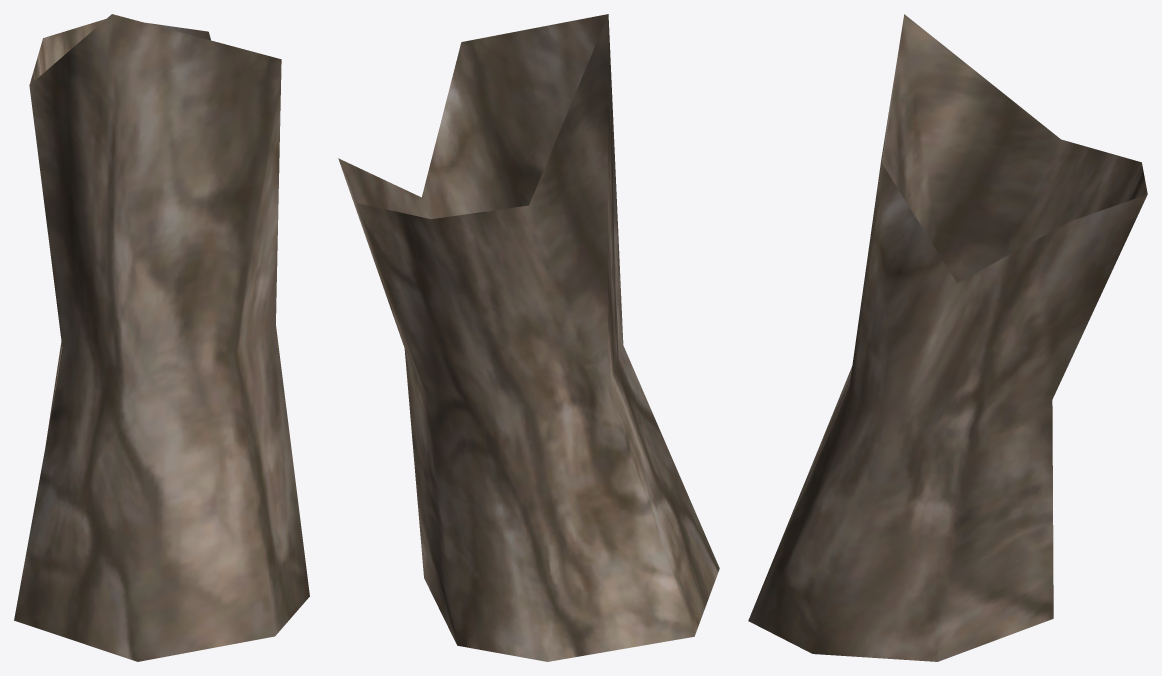
Rendered from EKH_GROTTO_PS_GR_OBJECT44.fbx.
3 renders of one model, left to right at view 1: azimuth 30°, elevation 25°; view 2: azimuth 150°, elevation 25°; view 3: azimuth 270°, elevation 25°, orthographic. The views are drawn at different scales.
Visible parts, largest first — view 1: EKH_GROTTO_PS_GR_OBJECT44; view 2: EKH_GROTTO_PS_GR_OBJECT44; view 3: EKH_GROTTO_PS_GR_OBJECT44.
Part boxes in pixels (x1=…): EKH_GROTTO_PS_GR_OBJECT44: x1=14, y1=14, x2=309, y2=661; EKH_GROTTO_PS_GR_OBJECT44: x1=338, y1=14, x2=719, y2=661; EKH_GROTTO_PS_GR_OBJECT44: x1=748, y1=14, x2=1147, y2=661.
Bounding box in the file's own units: 10674 × 21951 × 13882.
Materials: 1 (1 with a texture image).
